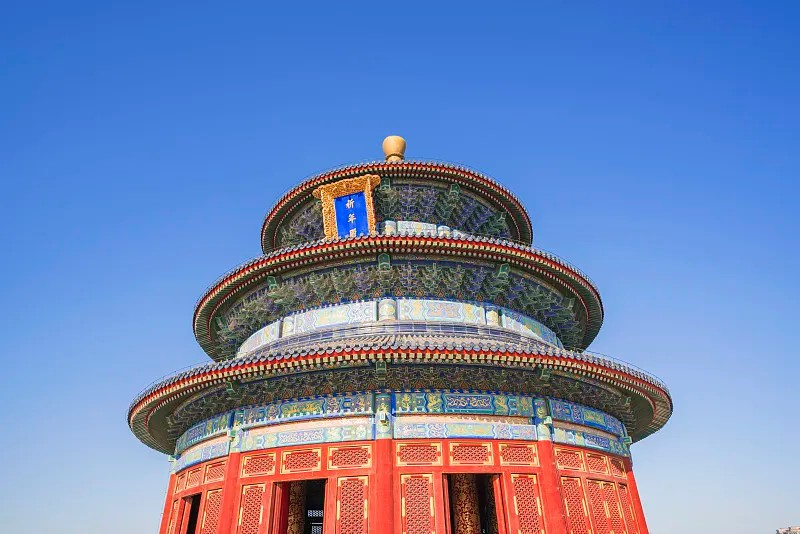Heaven: (127, 136, 673, 534)
